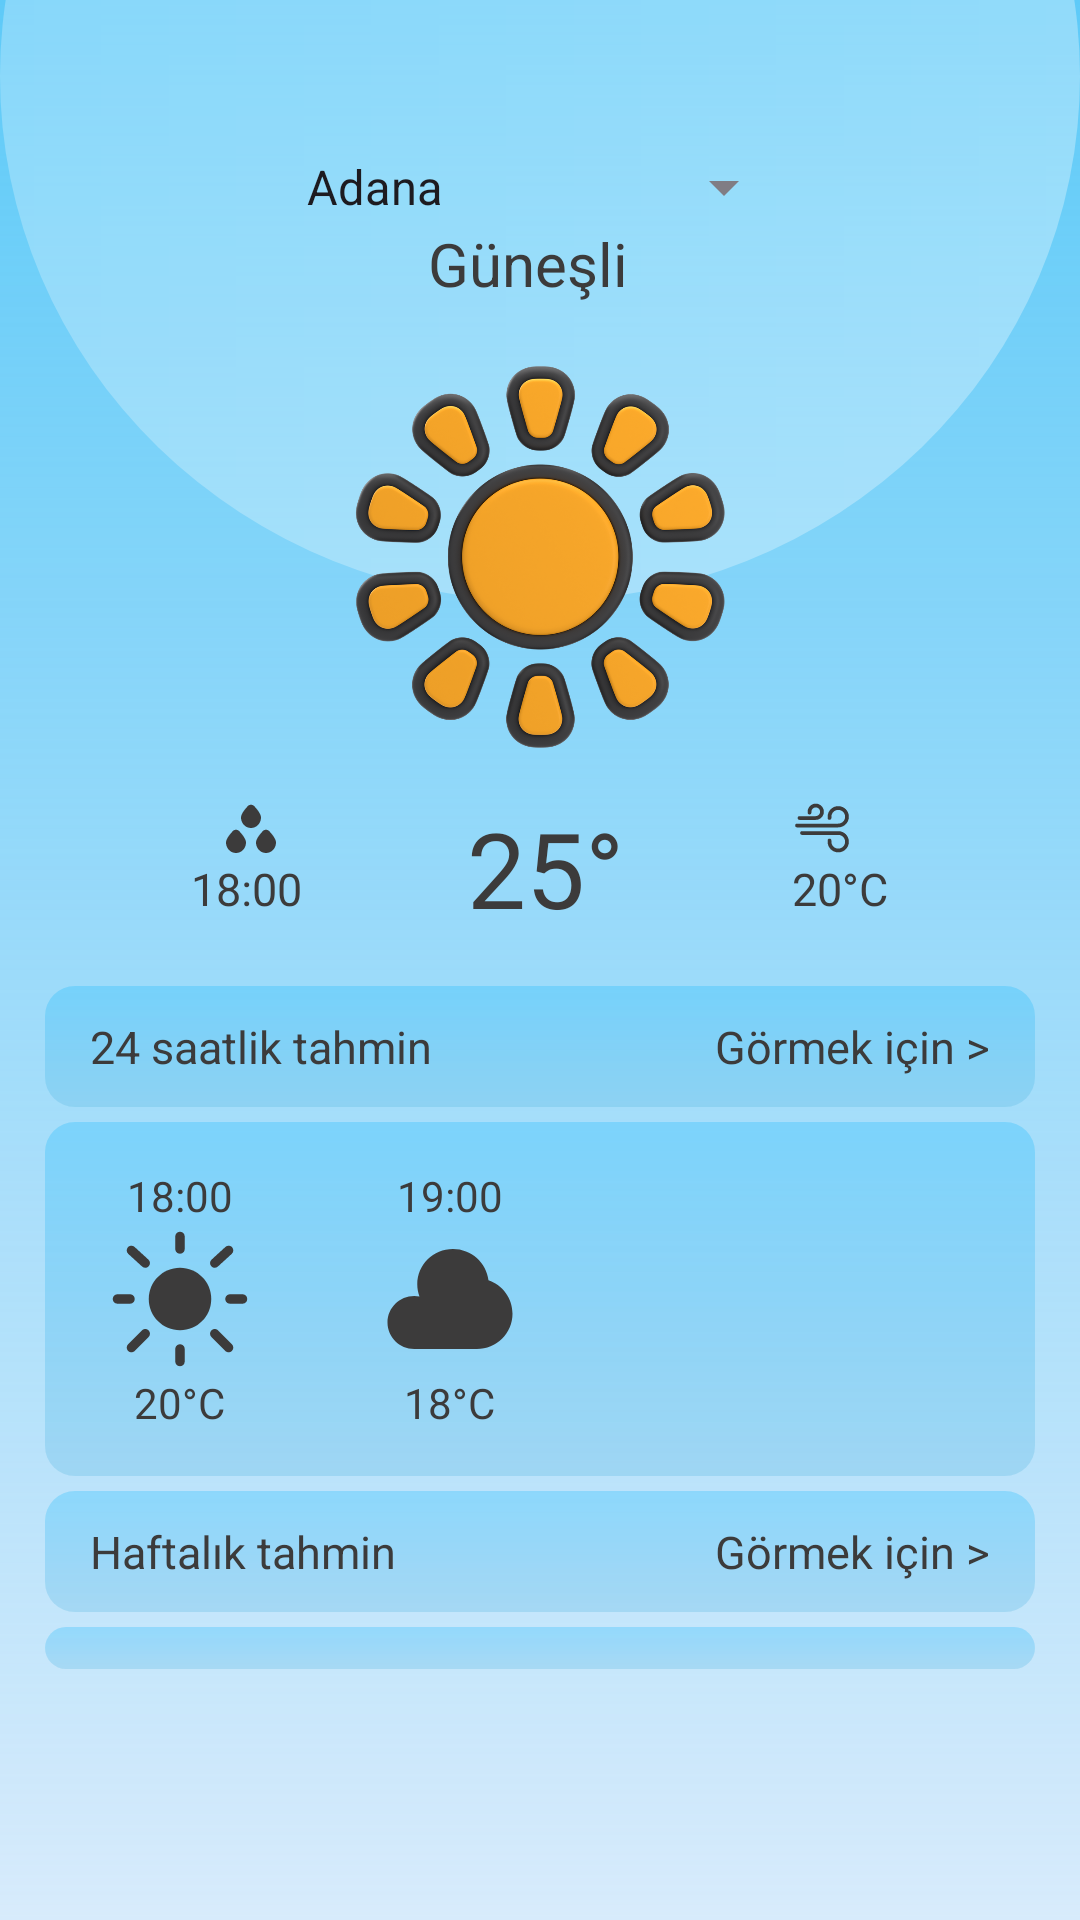

Named icons in this screenshot (1080x1920) and their centers, (x=x, y=y):
cloud: (x=450, y=1299)
sun: (x=179, y=1299)
waterdrops: (x=251, y=828)
wind: (x=822, y=828)
